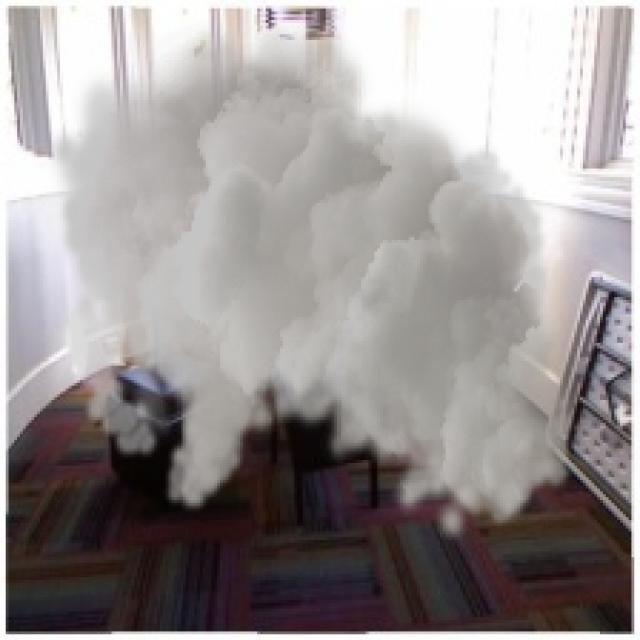smoke: (46, 6, 577, 546)
